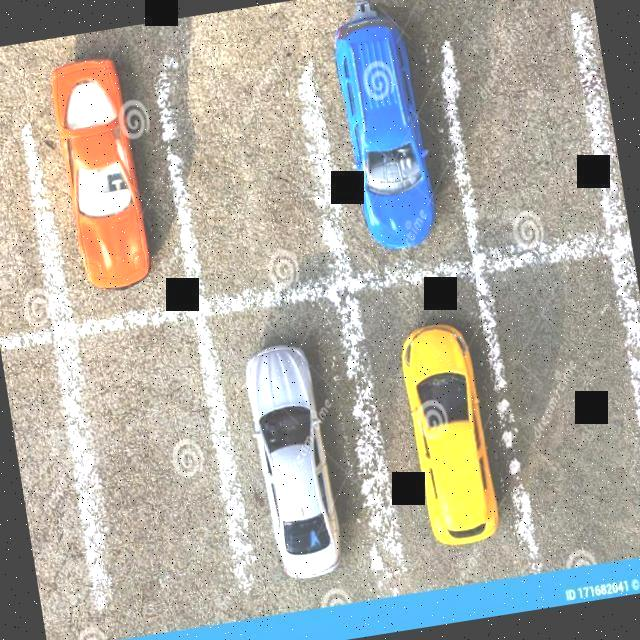car: (1, 26, 211, 350), (338, 259, 538, 579), (198, 282, 392, 596), (290, 0, 487, 297)
free: (46, 308, 254, 622), (149, 1, 351, 320), (434, 0, 633, 272), (474, 239, 640, 564)
